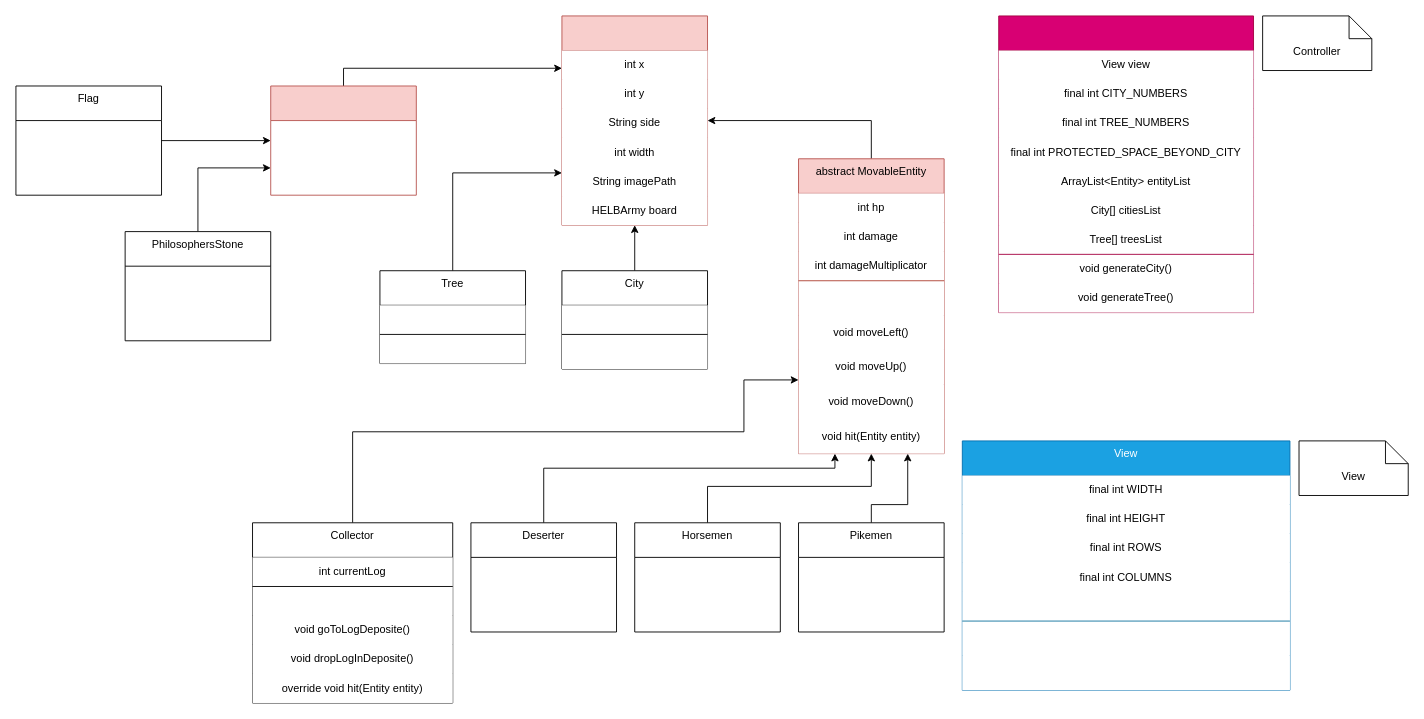
Some shapes in this 1424 by 719 pixel diagram are drawn without their labels. The shapes that lost their labels are listed below. From the top down, each one's box as (x1, y1, x2, y2) in pixels, then its label:
(270, 85, 416, 195): abstract Collectable
(561, 15, 708, 225): abstract Entity
(998, 15, 1254, 313): HELBArmy
(798, 280, 944, 315): void moveRight ()
(379, 305, 525, 334): int log
(561, 305, 707, 334): int totalLogs
(379, 334, 525, 363): void decreaseLog(int nb)
(561, 334, 707, 369): void generateUnity()
(252, 586, 452, 615): void goToNearestTree()
(962, 592, 1289, 621): final int SQUARE_SIZE
(962, 621, 1289, 655): void drawBackground(GraphicsContext gc)
(962, 655, 1289, 690): void drawEntity(GraphicsContext gc, ArrayList<Entity> entityList)
